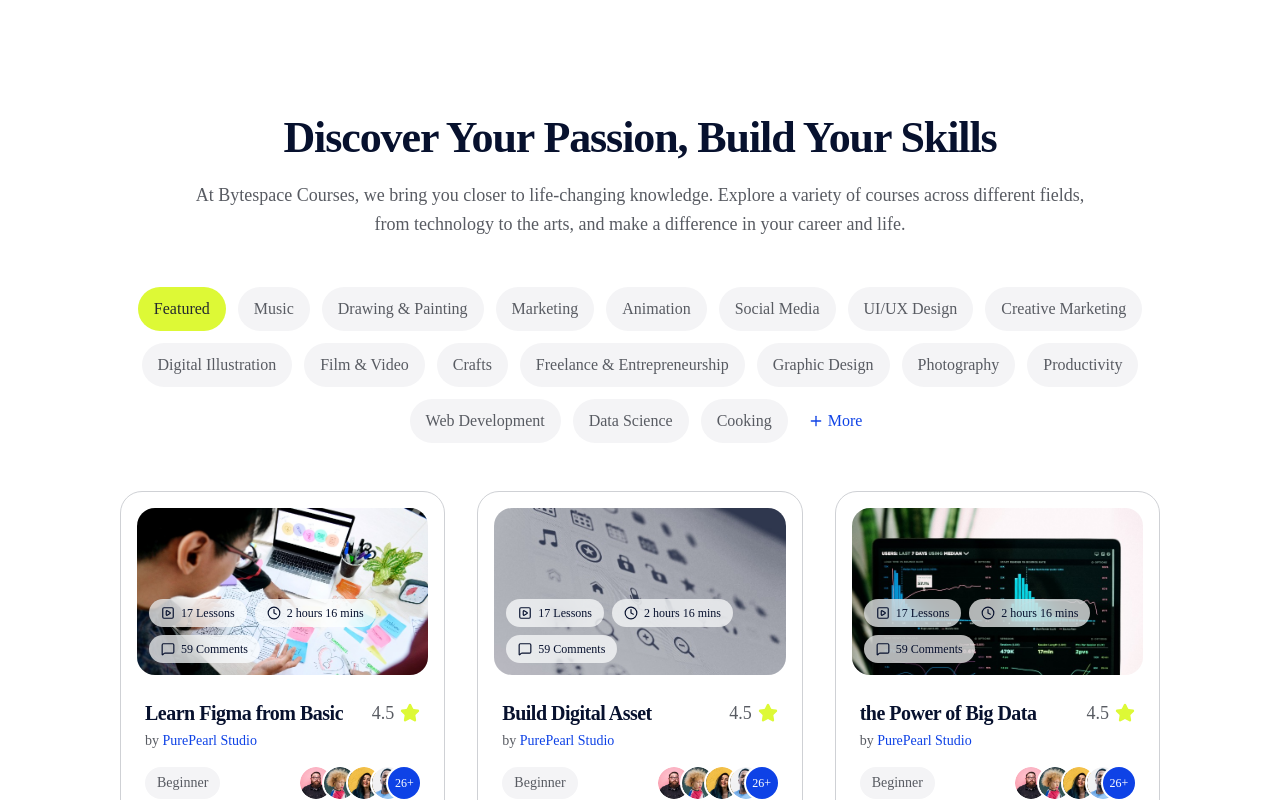
Test: CourseExplorer › filters courses when a category chip is activated
This screenshot has width=1280, height=800.
Step 1. Click the button "Marketing" → (545, 309), box [496,287,594,331]
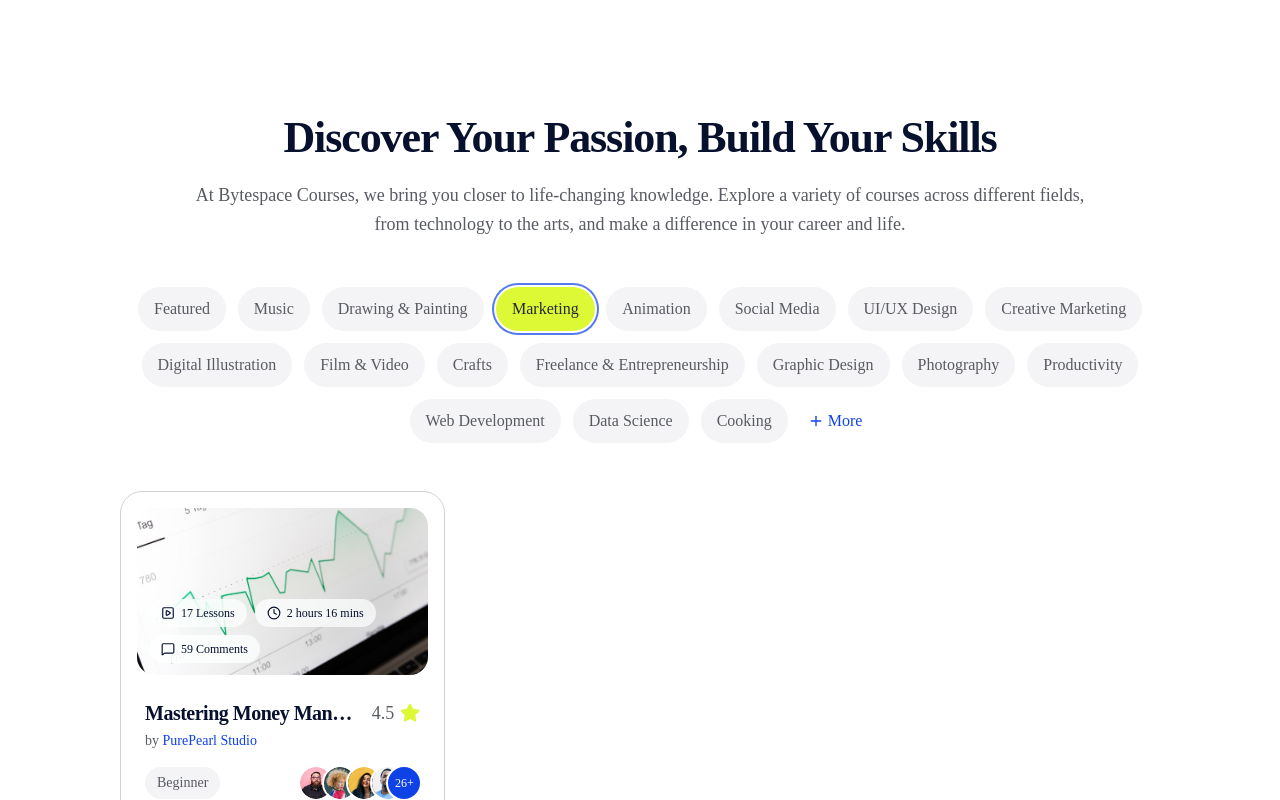
Result: the heading "Mastering Money Management" is shown at [145,699,360,727]
Result: the link "Learn Figma from Basic" is gone
